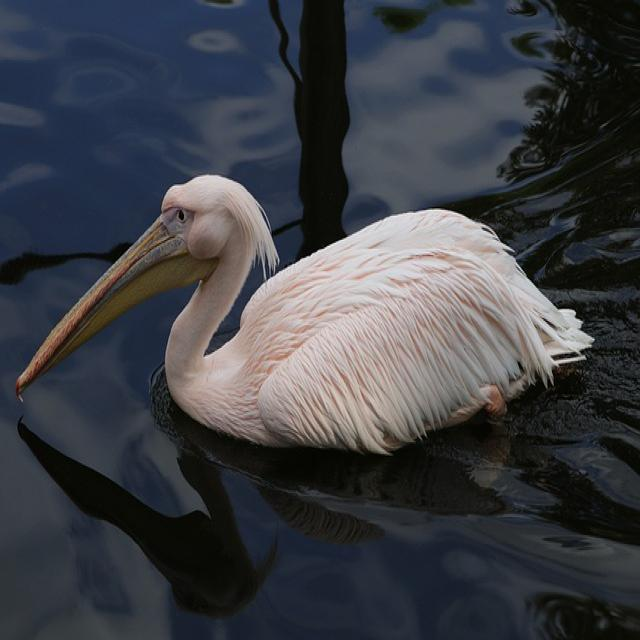Carnivorous: (15, 175, 595, 460)
